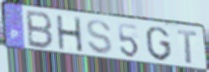5: (117, 22, 141, 59)
B: (26, 8, 55, 51)
G: (144, 25, 173, 63)
H: (54, 15, 85, 54)
S: (85, 19, 114, 56)
T: (176, 30, 199, 66)
